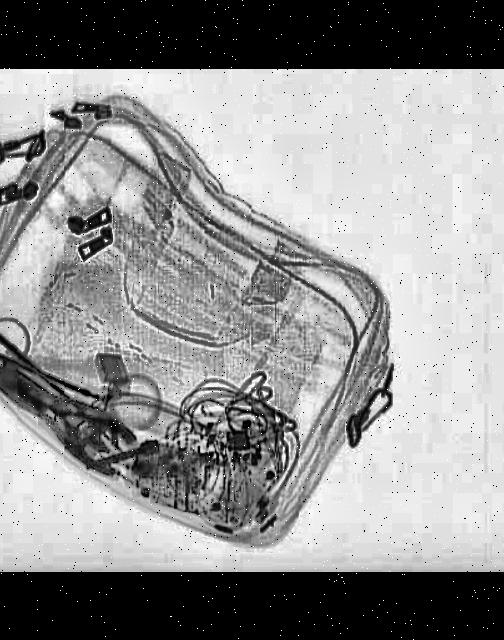Pliers: (0, 363, 147, 480)
